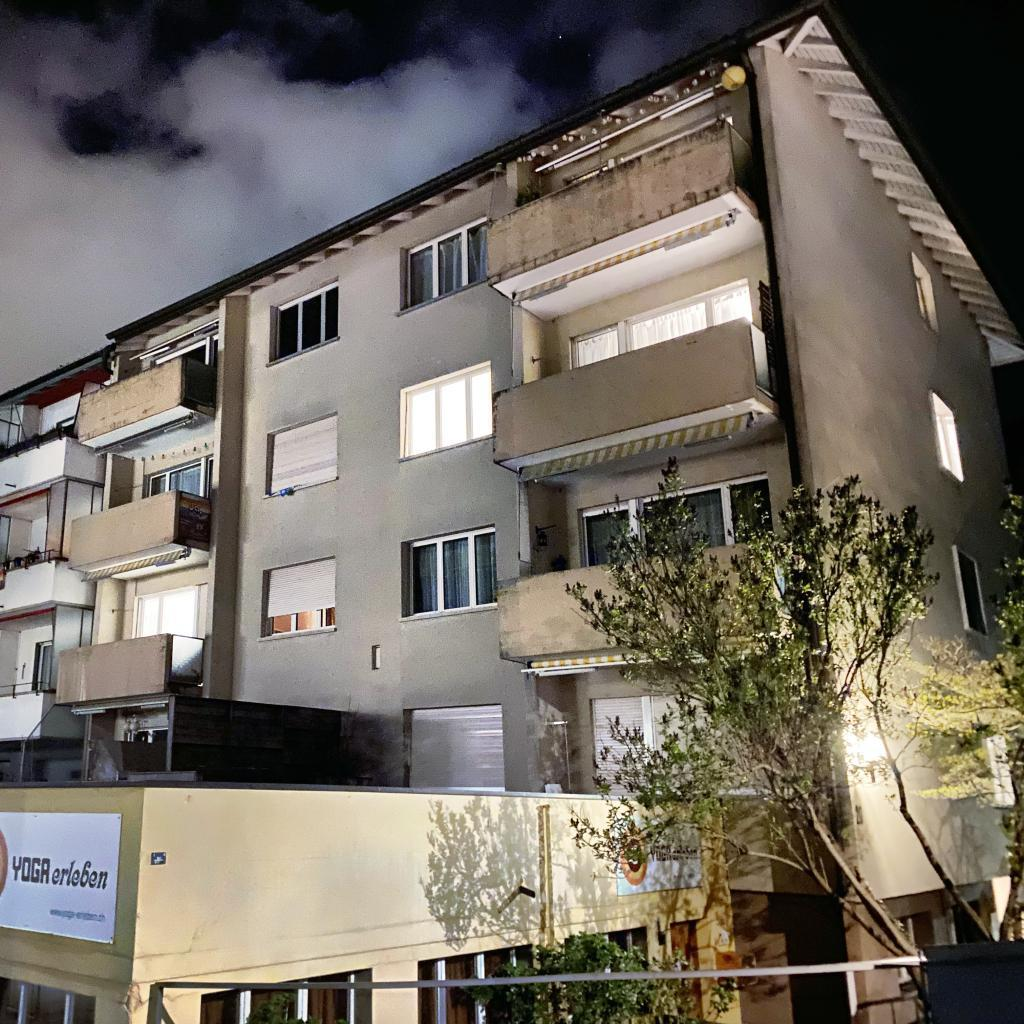balcony-fence: (488, 114, 759, 290), (491, 315, 779, 467), (496, 541, 772, 665), (77, 354, 217, 446), (67, 488, 212, 571), (54, 632, 204, 706), (0, 422, 77, 463), (0, 547, 67, 581), (0, 680, 55, 700)
facade: (0, 0, 1024, 1024)
fence: (923, 941, 1024, 1024)
vegetation: (562, 453, 1024, 1018), (457, 929, 745, 1024)
window: (583, 473, 774, 566), (593, 695, 764, 793), (575, 282, 753, 367), (419, 948, 534, 1024), (404, 365, 492, 458), (408, 704, 504, 788), (202, 974, 357, 1024), (410, 527, 496, 615), (406, 215, 486, 308), (271, 414, 337, 493), (268, 558, 335, 635), (276, 281, 338, 359), (0, 978, 94, 1024), (140, 589, 197, 637), (958, 552, 985, 634), (148, 461, 200, 496), (989, 739, 1014, 804), (155, 338, 207, 366), (936, 413, 952, 471), (915, 272, 931, 325), (37, 642, 53, 690), (132, 728, 167, 742), (37, 521, 46, 558)
